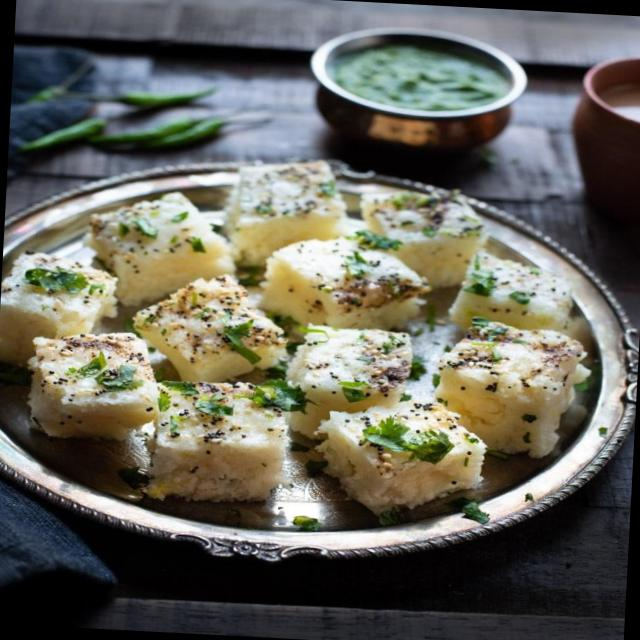dhokla: (0, 154, 601, 530)
